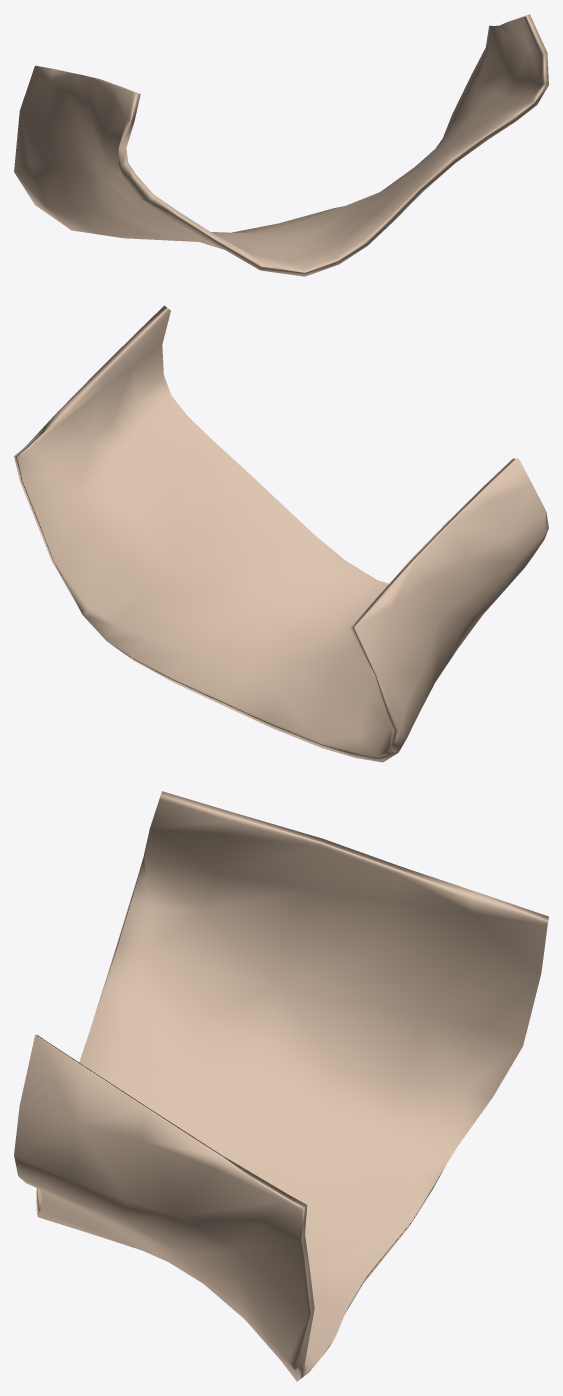
The picture shows the model from 3 angles, top to bottom: view 1: azimuth 30°, elevation 25°; view 2: azimuth 150°, elevation 25°; view 3: azimuth 270°, elevation 25°; orthographic projection. The views are drawn at different scales.
Visible parts, largest first — view 1: 左侧腕屈肌支持带; view 2: 左侧腕屈肌支持带; view 3: 左侧腕屈肌支持带.
Boxes of the visible parts, box(x1,y1,x2,y2) form: 左侧腕屈肌支持带: box(14, 14, 548, 276); 左侧腕屈肌支持带: box(14, 305, 548, 762); 左侧腕屈肌支持带: box(14, 791, 548, 1381).
Bounding box in the file's own units: 0.089 × 0.0506 × 0.0606.
